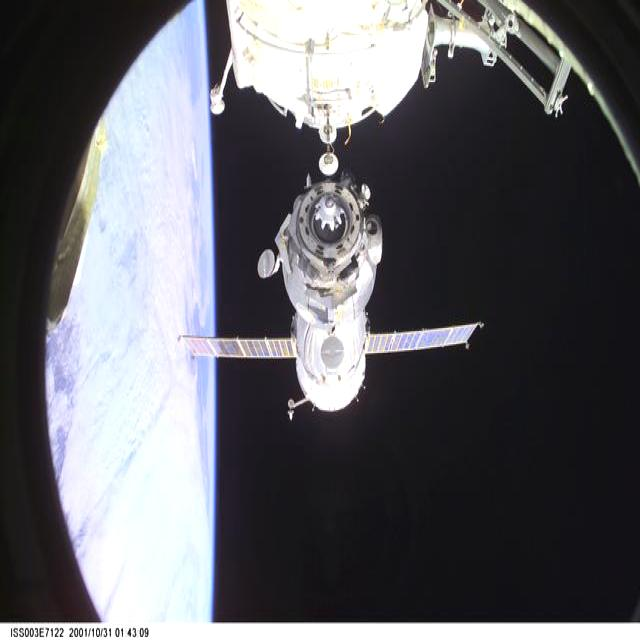medium_debris: (182, 178, 479, 411)
